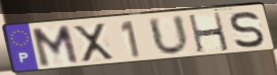1: (119, 19, 143, 60)
H: (186, 11, 232, 55)
M: (29, 23, 82, 70)
S: (228, 10, 266, 50)
U: (146, 14, 193, 58)
X: (70, 22, 117, 64)
